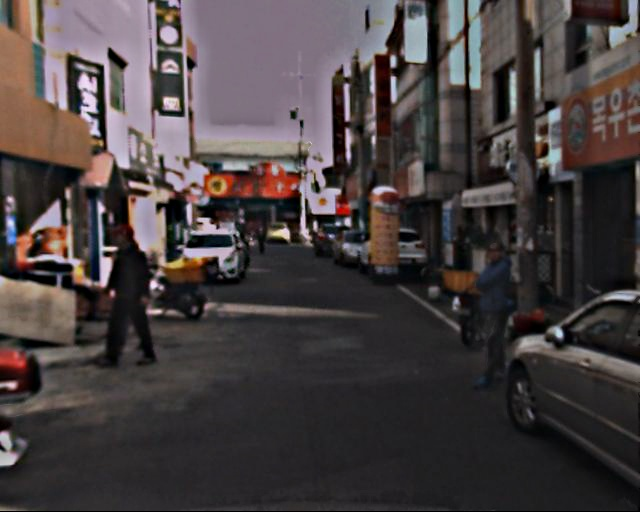person: (95, 223, 167, 366), (460, 241, 526, 389), (255, 216, 271, 255)
